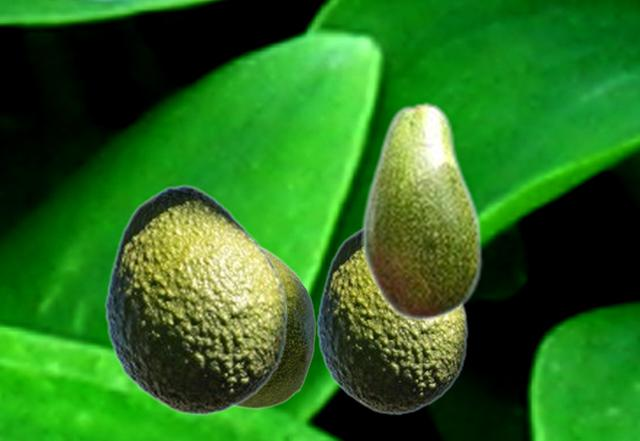avocado: (103, 184, 287, 415), (316, 226, 467, 414), (361, 100, 482, 322), (235, 246, 315, 409)
